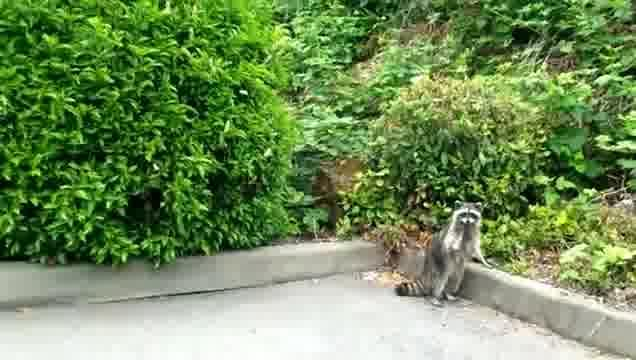raccoon: (396, 199, 496, 308)
